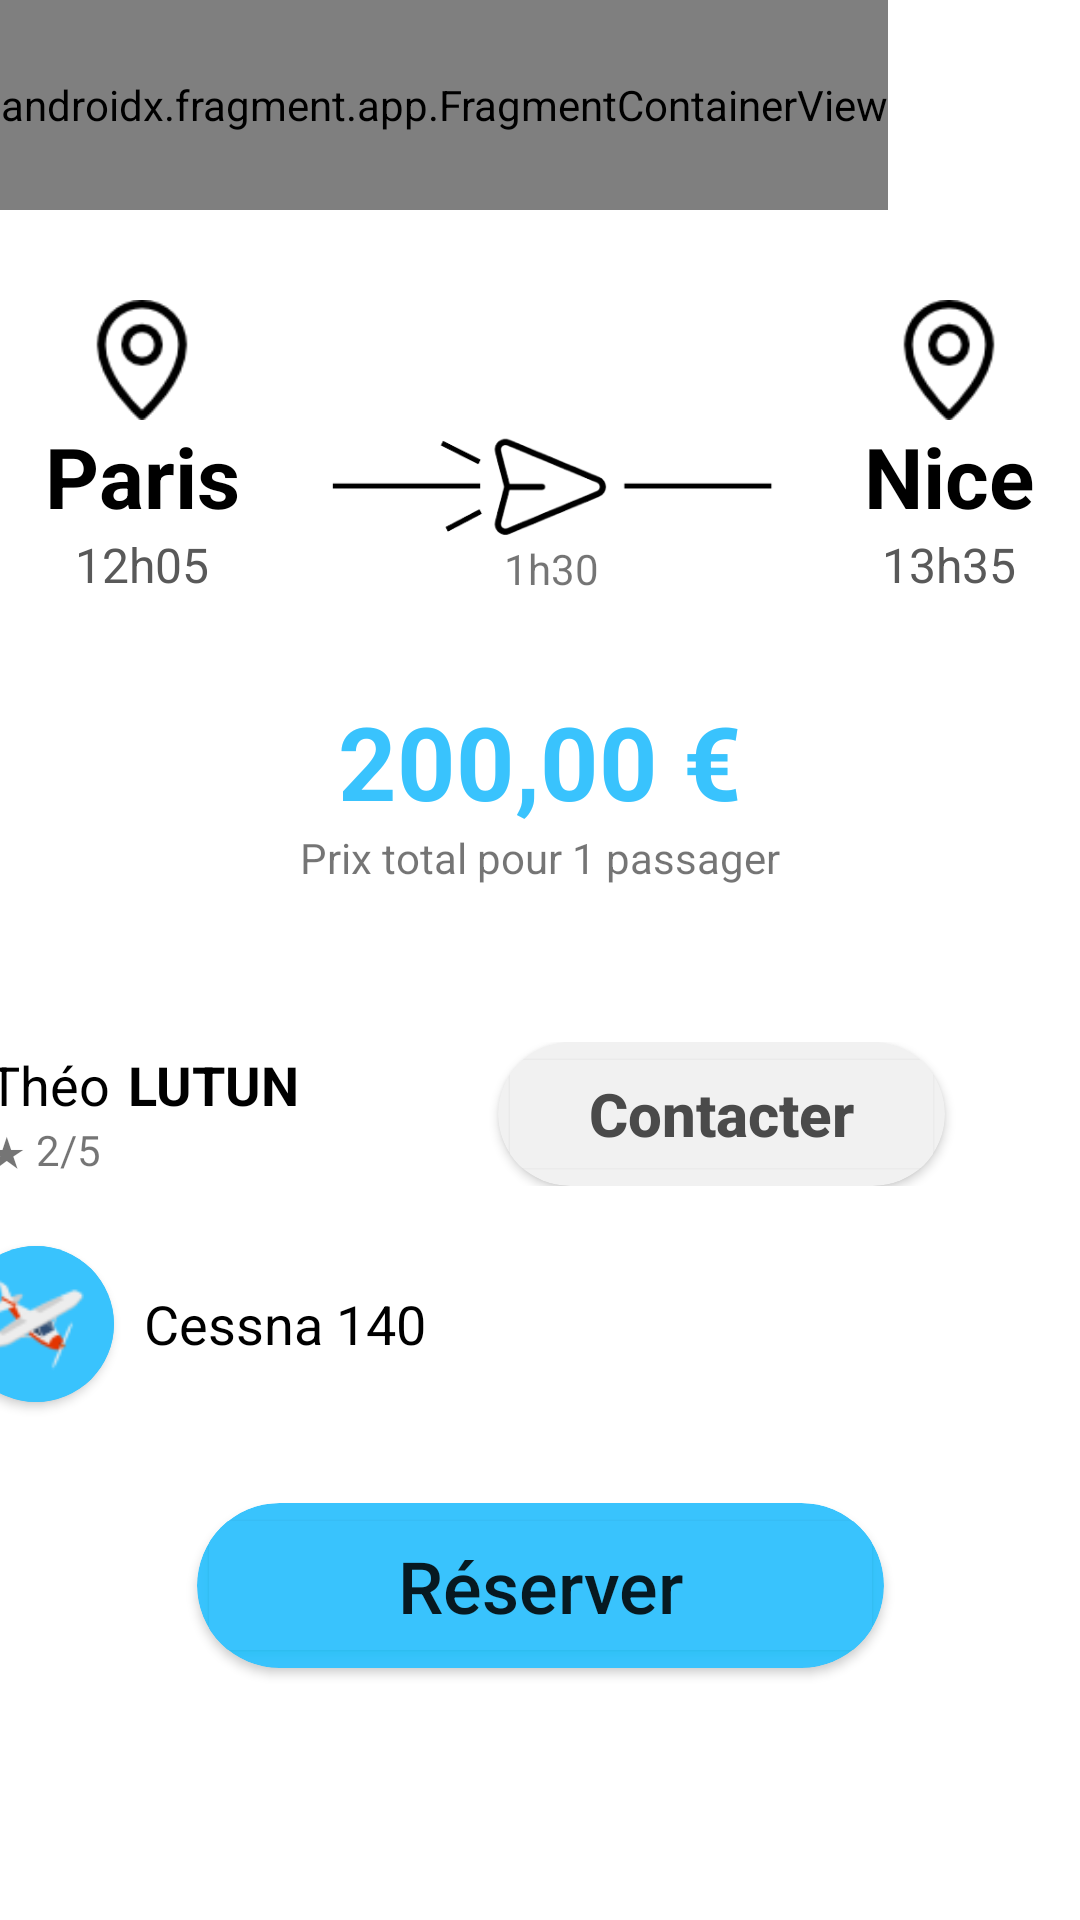

Named icons in this screenshot (1080 x 1920) and their centers, [x,y]:
location pin: [142,360], [949,360]
